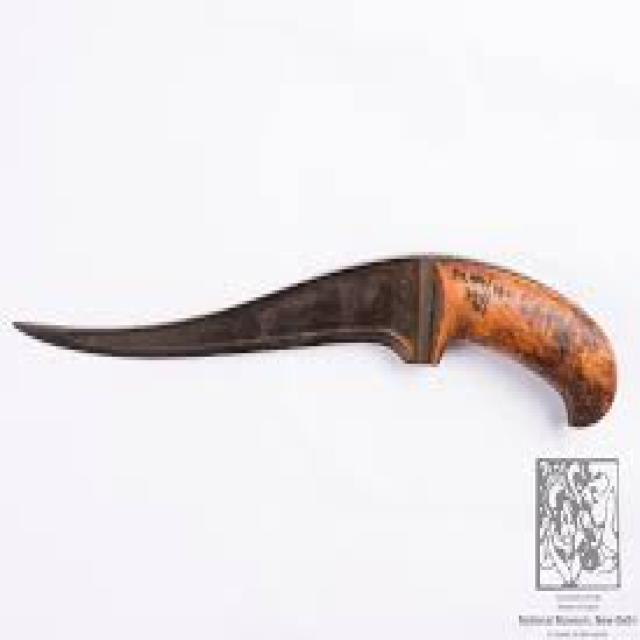Gun: (8, 228, 620, 472)
